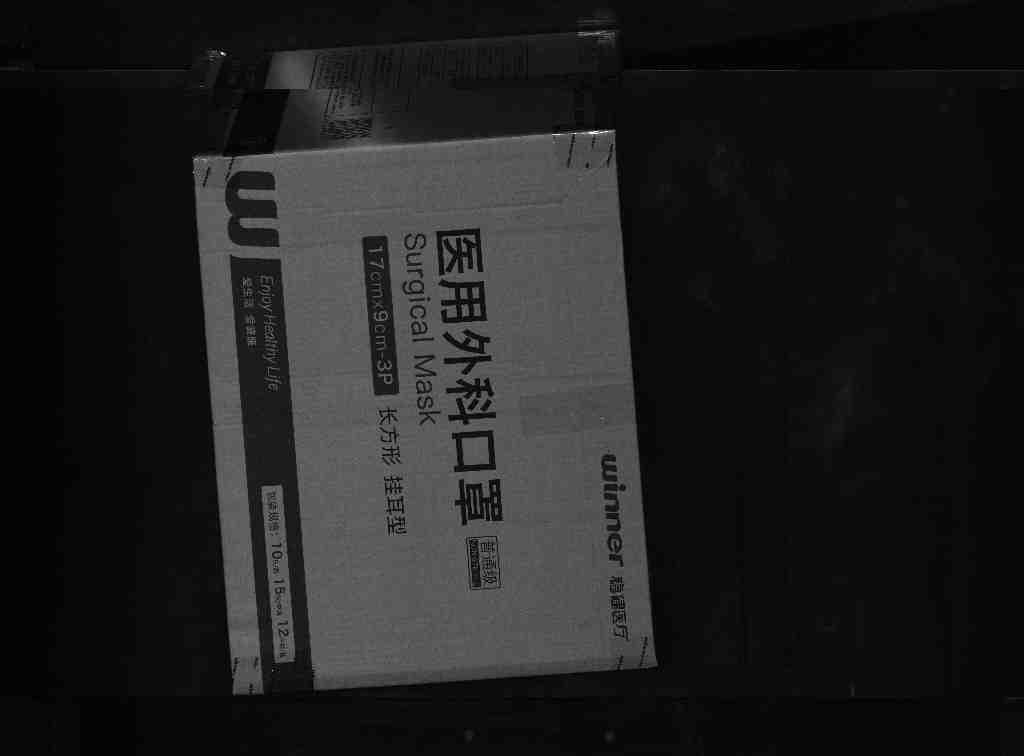box: (170, 52, 669, 694)
